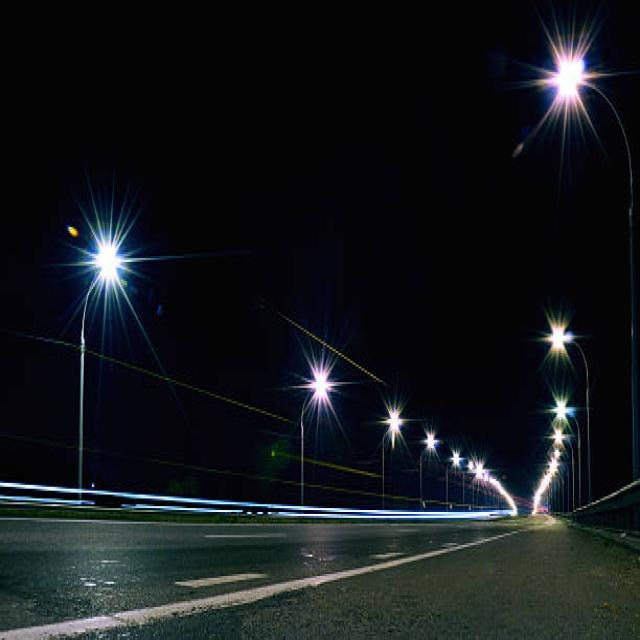acesa: (545, 34, 593, 138), (87, 214, 134, 310), (298, 354, 338, 415), (542, 313, 576, 357), (384, 397, 408, 442)
